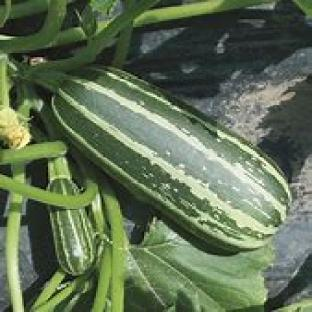Zucchini: (54, 70, 291, 249), (50, 207, 95, 275)
